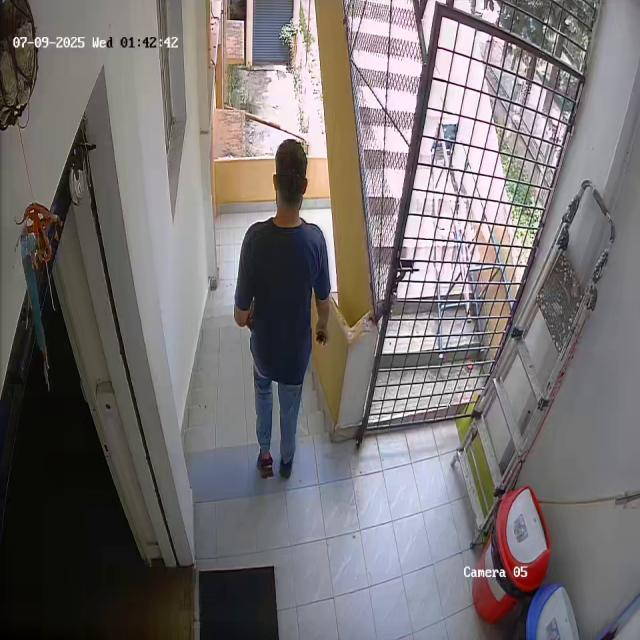person: (230, 137, 330, 482)
